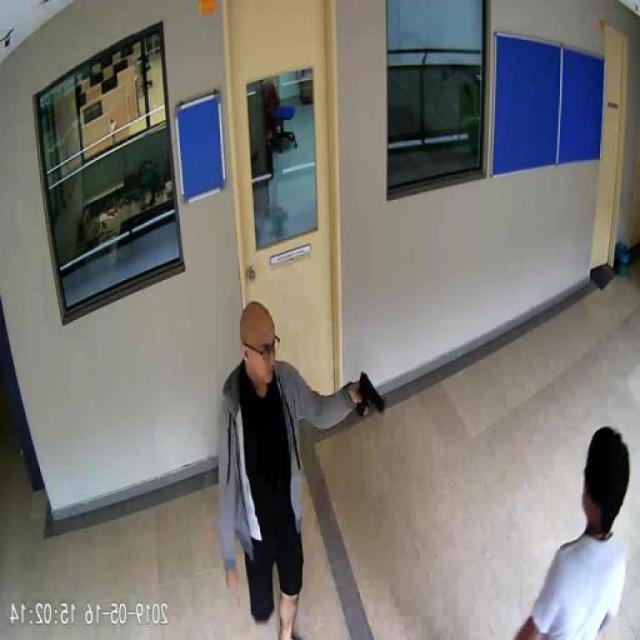pistol: (358, 368, 387, 419)
